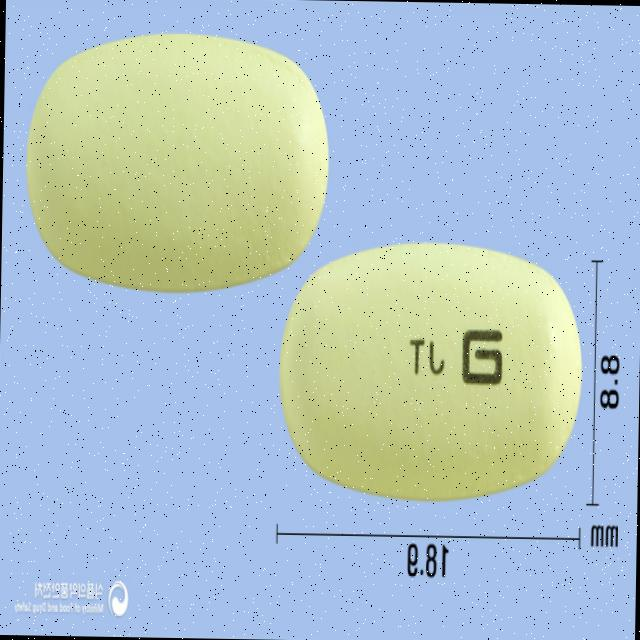Klaricid Film Coated: (274, 238, 585, 507)
